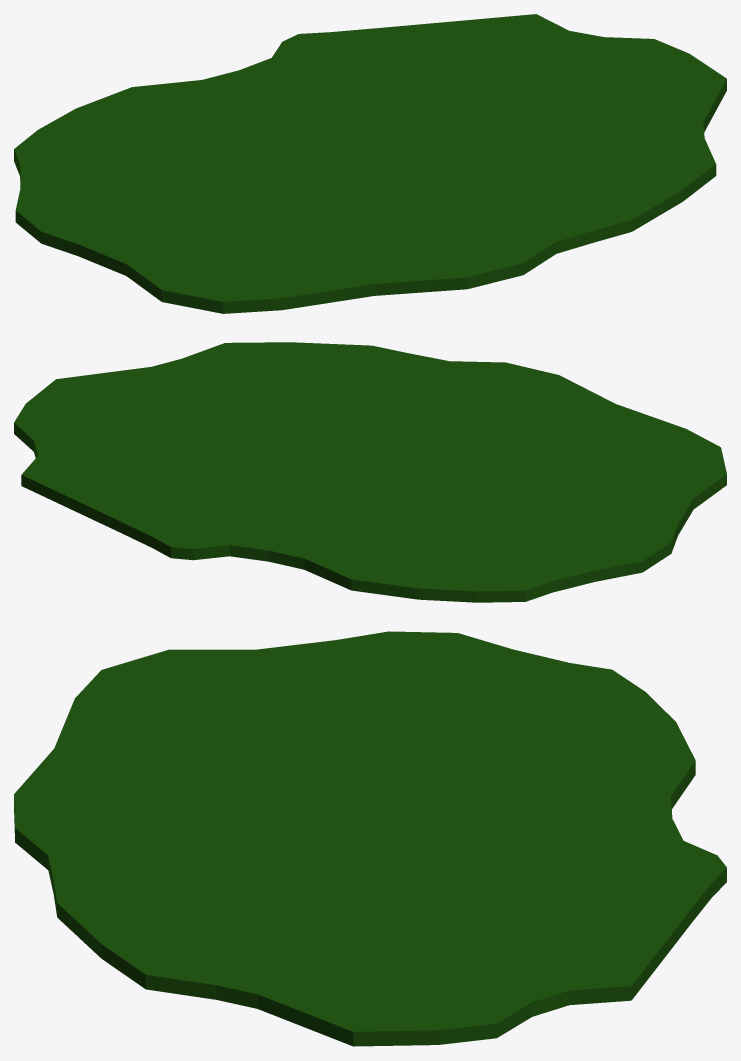
File: Sand 5.FBX
3 renders of one model, top to bottom at view 1: azimuth 30°, elevation 25°; view 2: azimuth 150°, elevation 25°; view 3: azimuth 270°, elevation 25°, orthographic. The views are drawn at different scales.
Parts seen in each view (by area): view 1: Plane001; view 2: Plane001; view 3: Plane001.
Part boxes in pixels (left/top/right/bottom): Plane001: left=14, top=14, right=726, bottom=313; Plane001: left=14, top=342, right=726, bottom=602; Plane001: left=14, top=631, right=726, bottom=1046.
Size of the model in its own units: 146 by 2.49 by 110.
